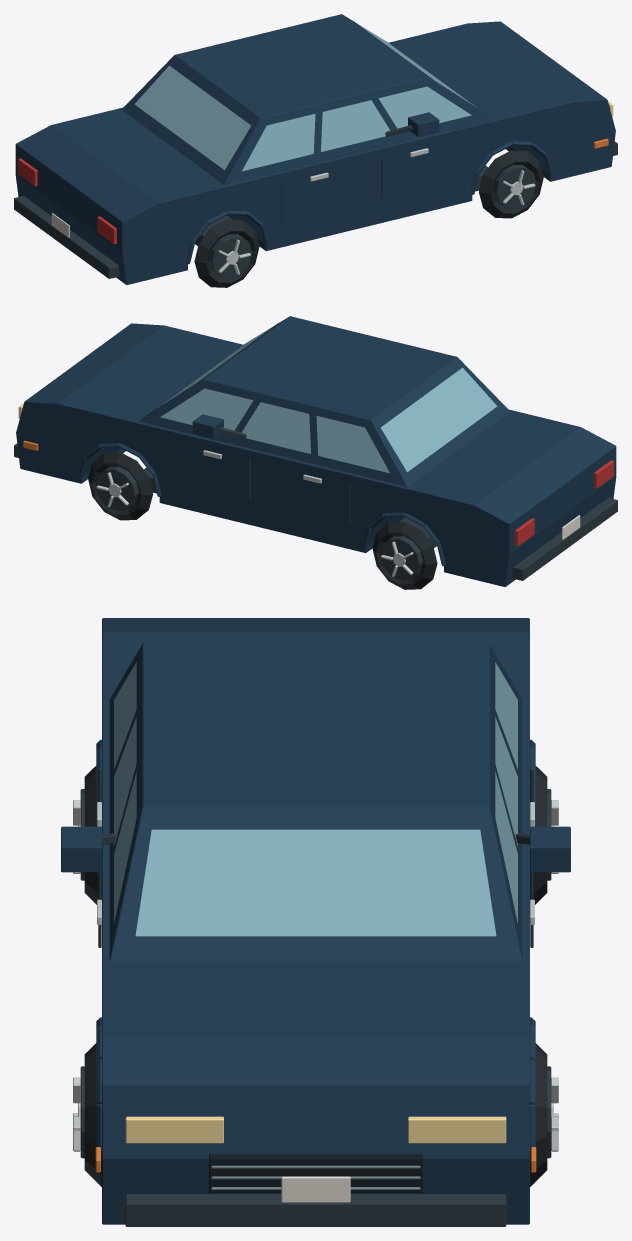
The model's file is b03_fullsize_luxury_sedan.glb.
3 views of the same model, one above another, from view 1: azimuth 30°, elevation 25°; view 2: azimuth 150°, elevation 25°; view 3: azimuth 270°, elevation 25° (orthographic). The views are drawn at different scales.
Visible parts, largest first — view 1: b03_fullsize_luxury_sedan; view 2: b03_fullsize_luxury_sedan; view 3: b03_fullsize_luxury_sedan.
Boxes of the visible parts, <box> form: b03_fullsize_luxury_sedan: <box>14,14,617,287</box>; b03_fullsize_luxury_sedan: <box>14,316,617,589</box>; b03_fullsize_luxury_sedan: <box>61,618,570,1226</box>.
Bounding box in the file's own units: 5.47 × 1.55 × 2.36.
